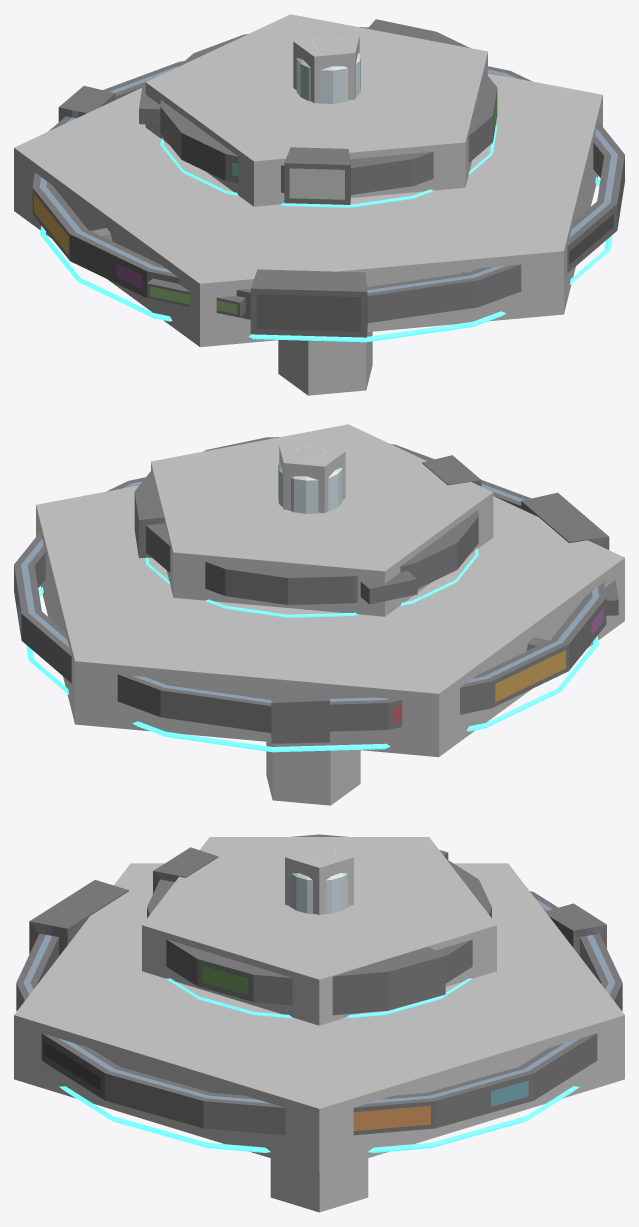
File: SM_Satellite_02.fbx
The picture shows the model from 3 angles, top to bottom: view 1: azimuth 30°, elevation 25°; view 2: azimuth 150°, elevation 25°; view 3: azimuth 270°, elevation 25°; orthographic projection.
Visible parts, largest first — view 1: SM_Satellite_02_ConvexHulls, SM_Satellite_02; view 2: SM_Satellite_02_ConvexHulls, SM_Satellite_02; view 3: SM_Satellite_02_ConvexHulls, SM_Satellite_02.
Boxes of the visible parts, x1,y1,x2,y2 form: SM_Satellite_02_ConvexHulls: (14,14,602,395); SM_Satellite_02: (32,19,624,342); SM_Satellite_02_ConvexHulls: (36,424,624,805); SM_Satellite_02: (14,437,618,752); SM_Satellite_02_ConvexHulls: (14,837,624,1212); SM_Satellite_02: (16,834,622,1152).
Size of the model in its own units: 1215 by 1189 by 726.
